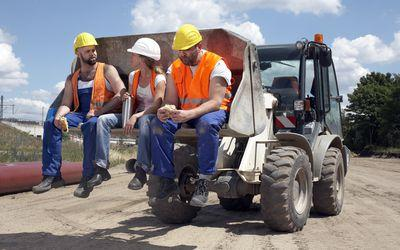helmet: (172, 23, 203, 52), (129, 38, 161, 64), (75, 33, 99, 51)
